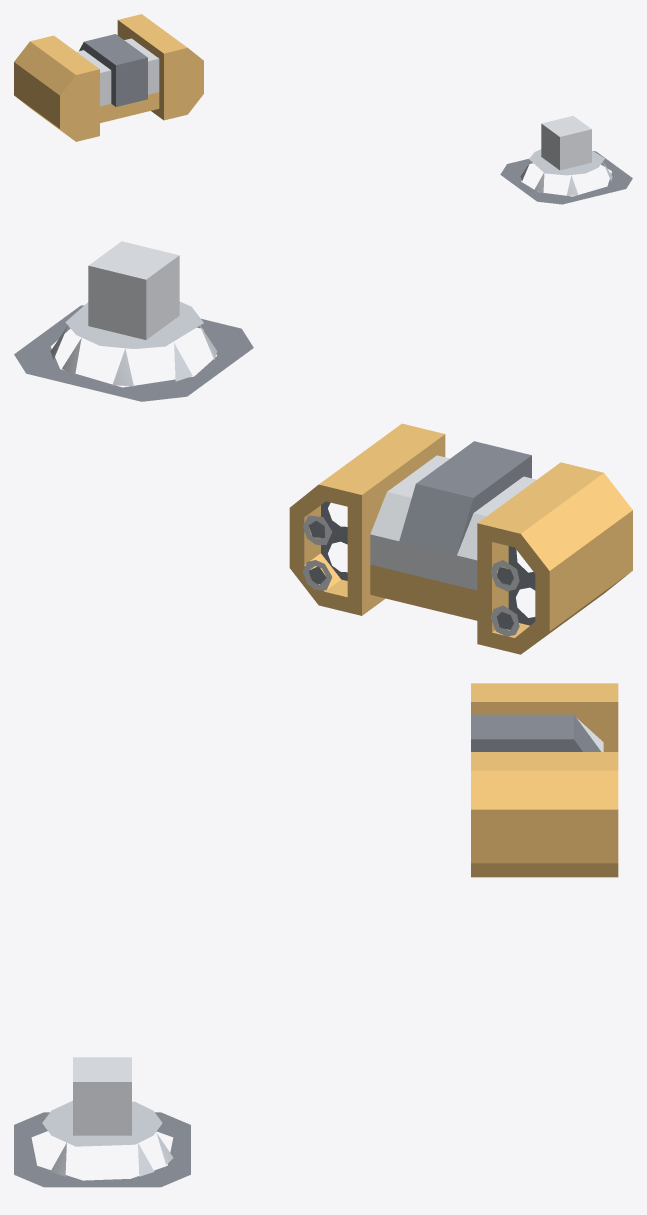
Rendered from turret_double_lod1.glb.
3 views of the same model, one above another, from view 1: azimuth 30°, elevation 25°; view 2: azimuth 150°, elevation 25°; view 3: azimuth 270°, elevation 25° (orthographic). The views are drawn at different scales.
Parts seen in each view (by area): view 1: turret.002, turret_double.001; view 2: turret.002, turret_double.001; view 3: turret.002, turret_double.001.
Boxes of the visible parts, x1,y1,x2,y2 form: turret.002: [14, 14, 203, 141]; turret_double.001: [500, 115, 632, 204]; turret.002: [289, 423, 632, 654]; turret_double.001: [14, 241, 253, 401]; turret.002: [471, 683, 618, 877]; turret_double.001: [14, 1057, 190, 1187].
Size of the model in its own units: 2.75 by 0.7 by 2.1.
